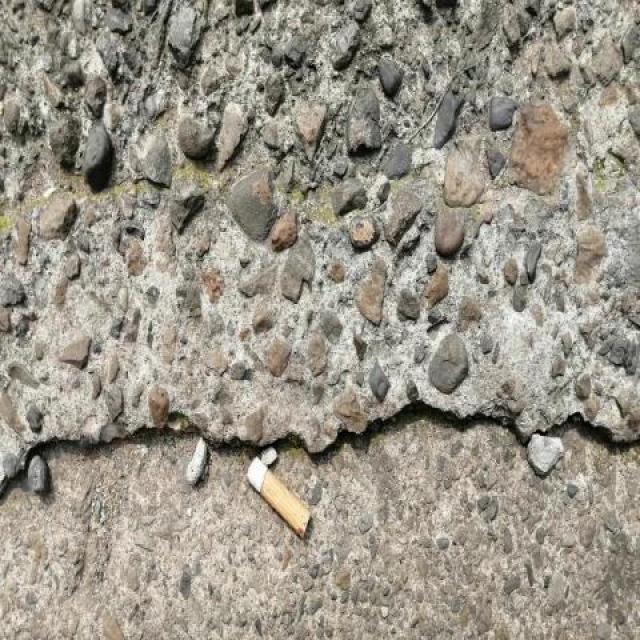non-organic waste: (242, 452, 314, 543)
